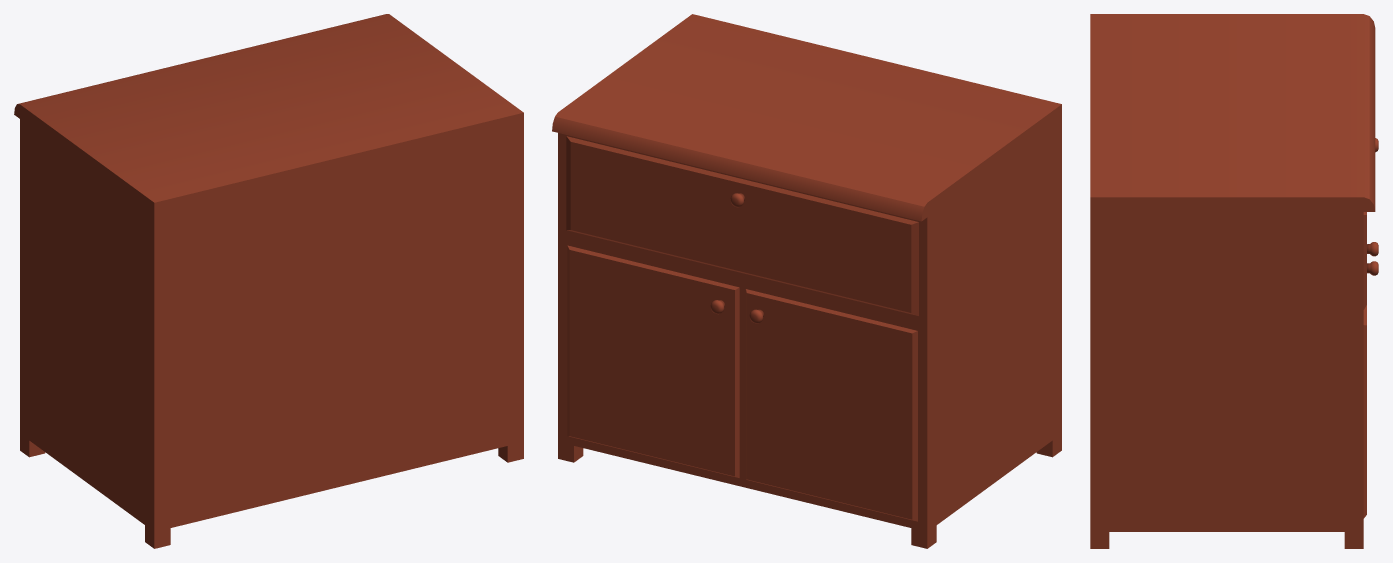
Rendered from Küchenmöbel.fbx_K_chenschrank_geschlossen_1.fbx.
3 renders of one model, left to right at view 1: azimuth 30°, elevation 25°; view 2: azimuth 150°, elevation 25°; view 3: azimuth 270°, elevation 25°, orthographic.
Parts seen in each view (by area): view 1: Küchenschrank geschlossen 1m; view 2: Küchenschrank geschlossen 1m; view 3: Küchenschrank geschlossen 1m.
Part boxes in pixels (x1=…): Küchenschrank geschlossen 1m: x1=14, y1=14, x2=523, y2=548; Küchenschrank geschlossen 1m: x1=552, y1=14, x2=1061, y2=548; Küchenschrank geschlossen 1m: x1=1090, y1=14, x2=1375, y2=548.
Bounding box in the file's own units: 100 × 89.54 × 66.55.
